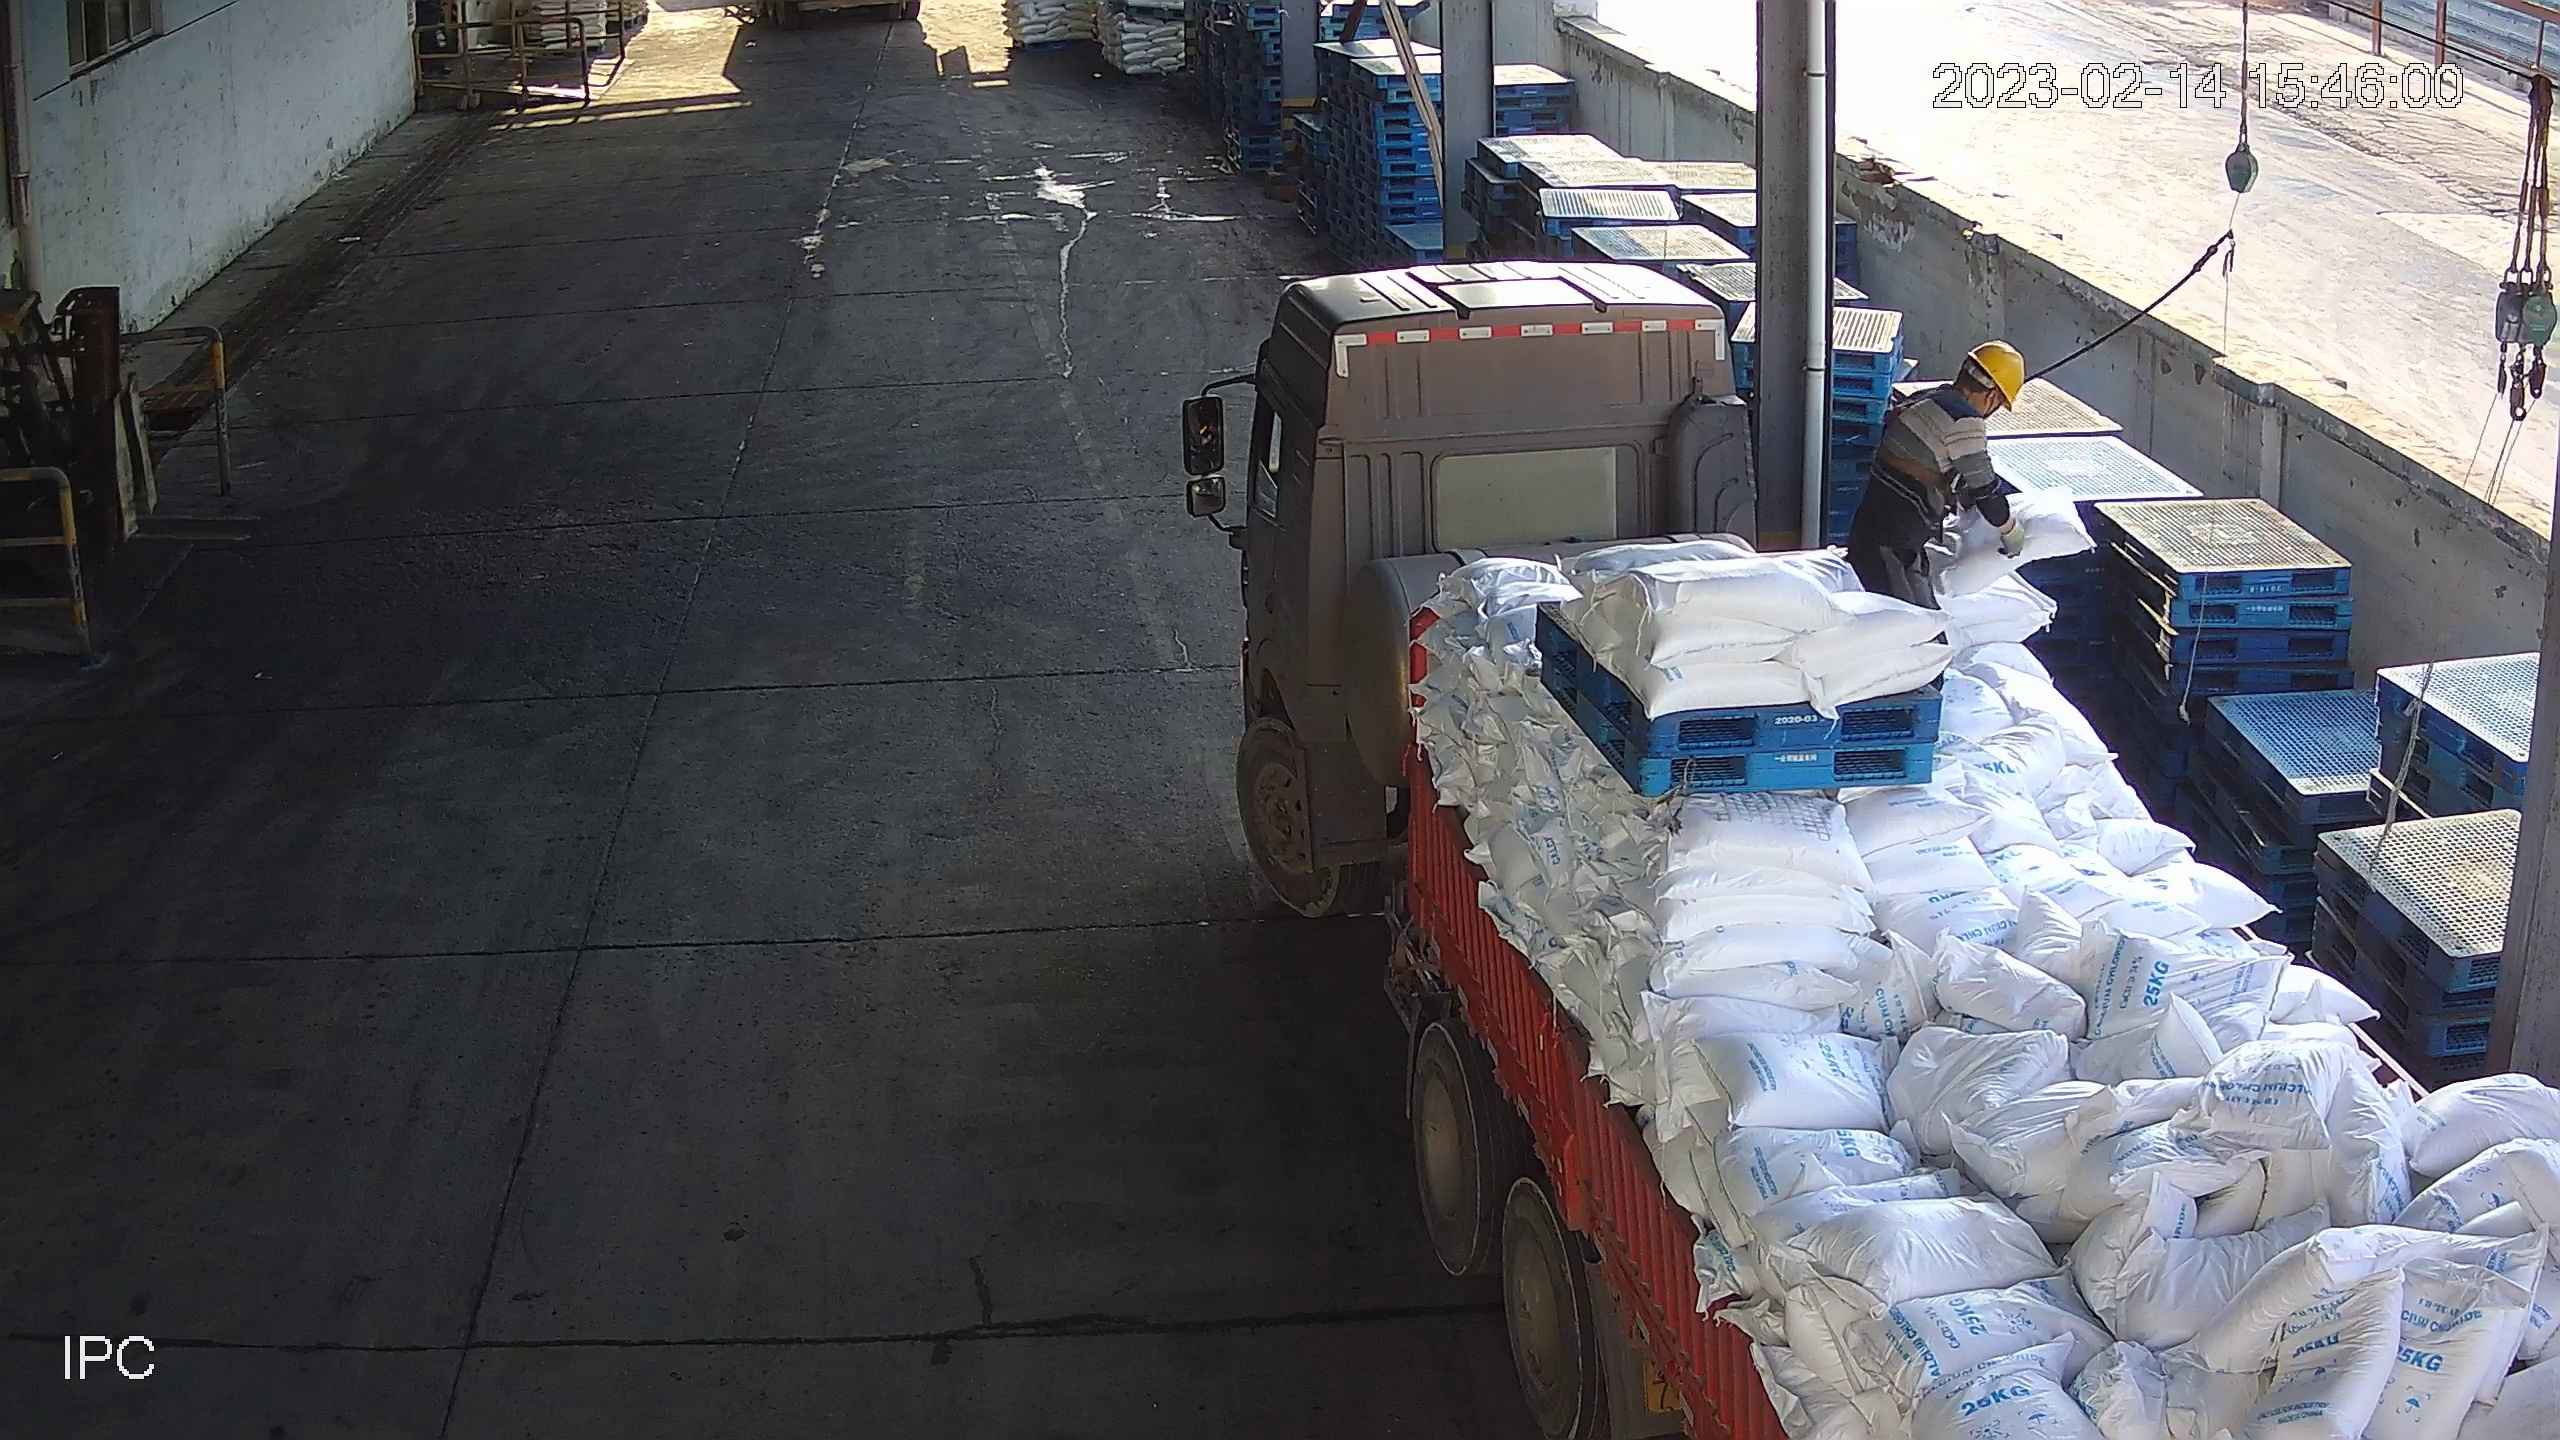belt: (1872, 394, 1972, 499)
head: (1904, 334, 2025, 460)
helmet: (1970, 334, 2023, 411)
people: (1842, 334, 2030, 718)
truck: (1172, 262, 2560, 1440)
